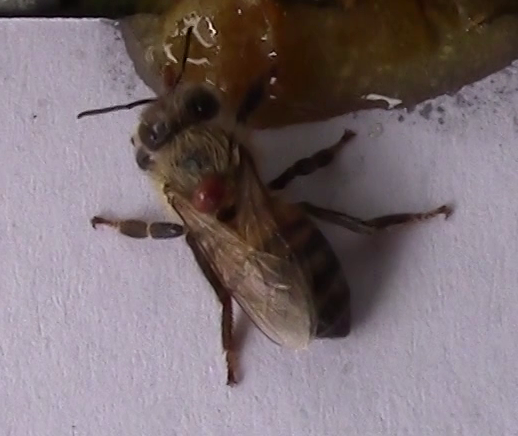Varroa destructor: (189, 172, 231, 214)
